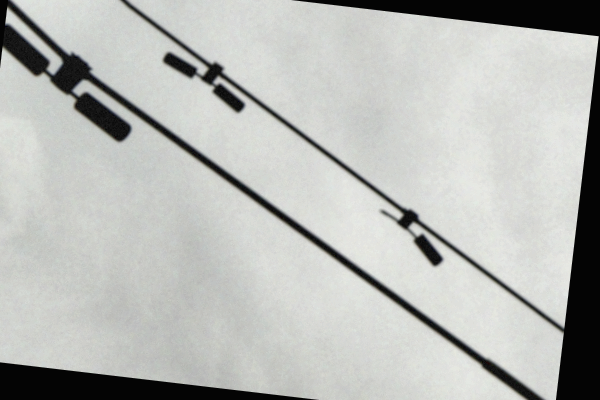damper: (1, 22, 143, 146), (155, 47, 252, 116)
damper_defect: (371, 206, 446, 268)
